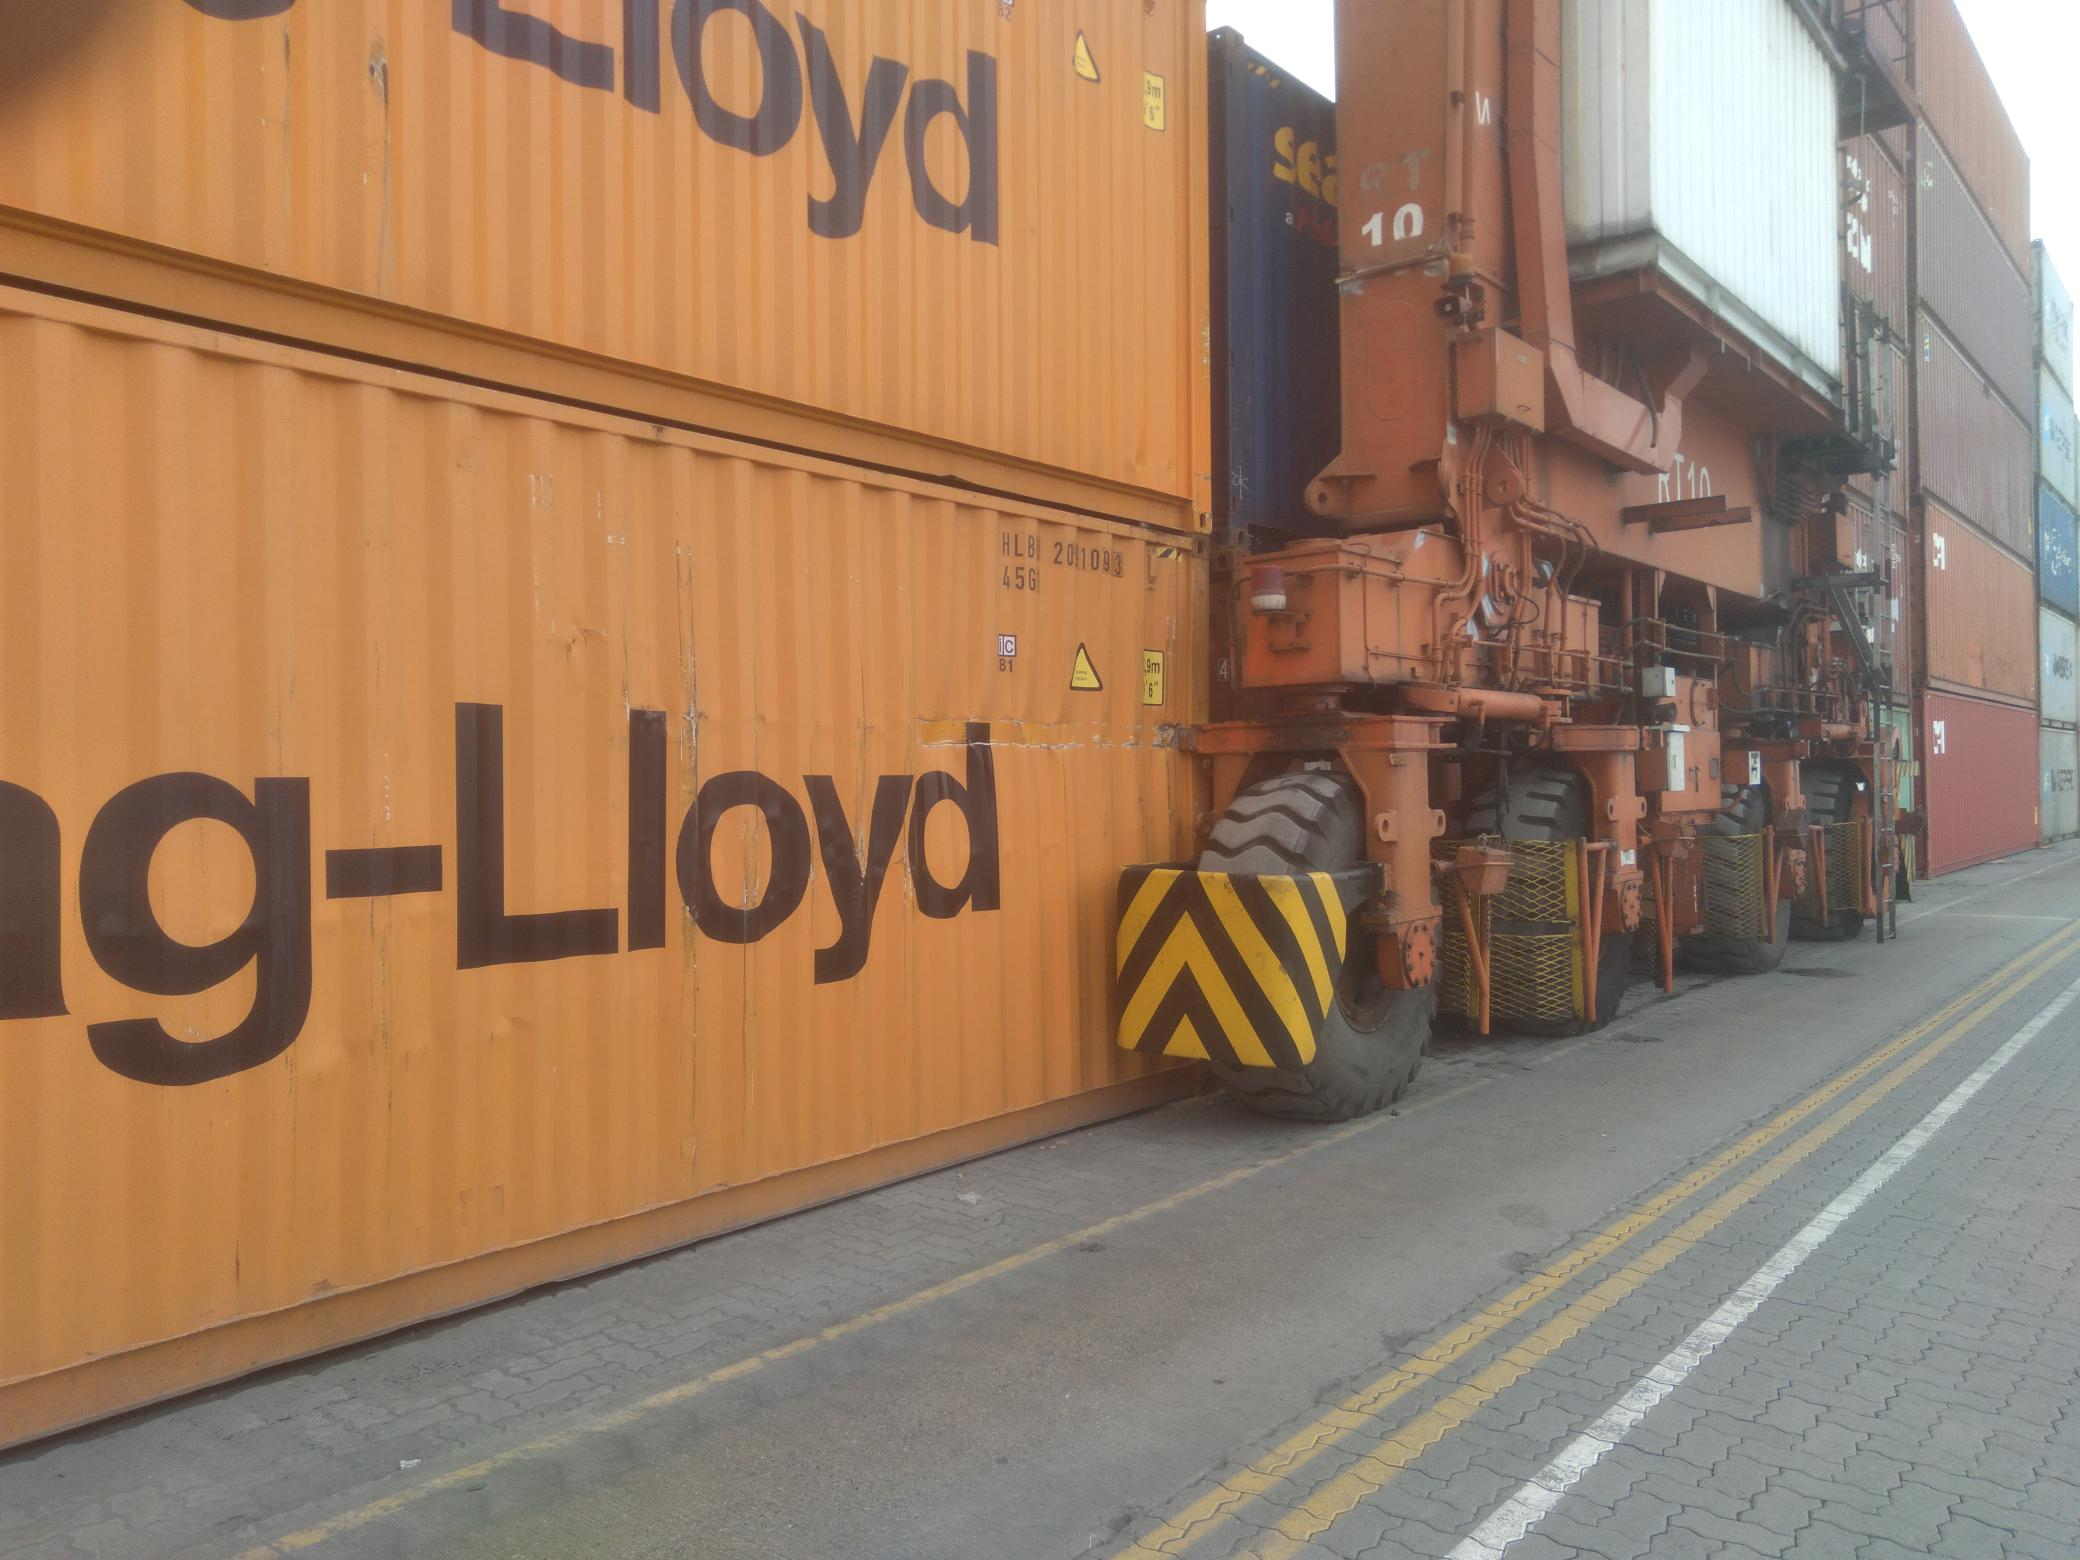moderate: (899, 706, 1179, 755), (557, 606, 608, 662)
